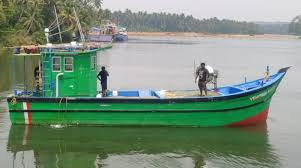boat: (7, 47, 291, 130)
